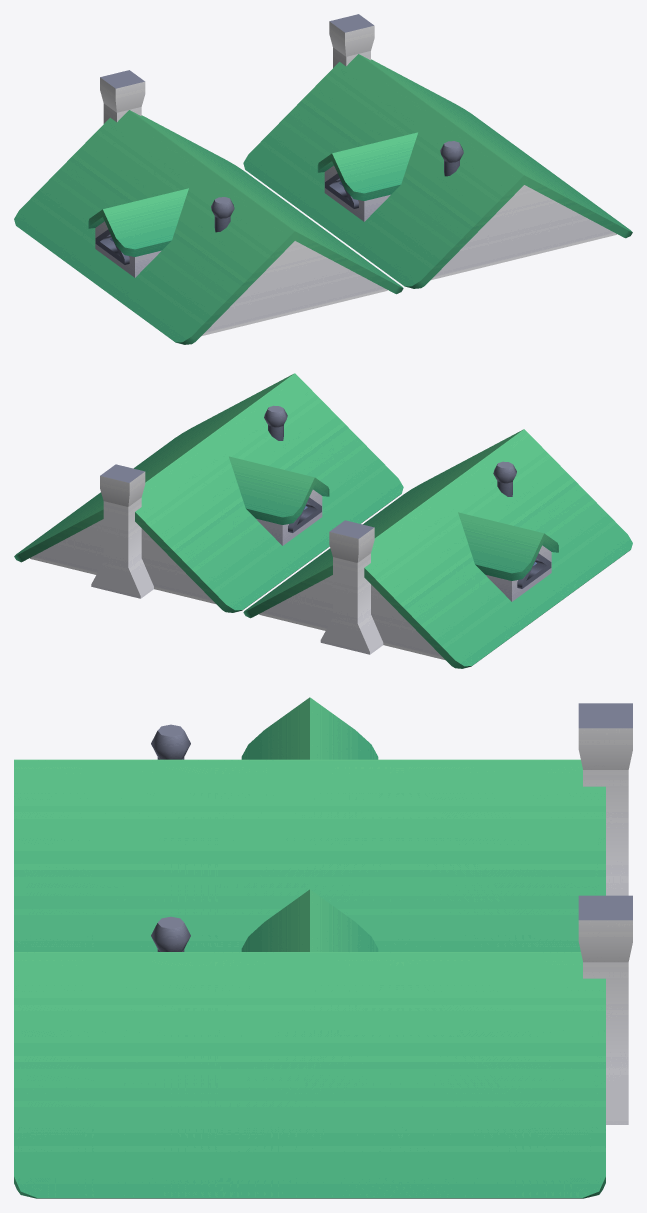
File: suburban-d.glb
The picture shows the model from 3 angles, top to bottom: view 1: azimuth 30°, elevation 25°; view 2: azimuth 150°, elevation 25°; view 3: azimuth 270°, elevation 25°; orthographic projection. The views are drawn at different scales.
Visible parts, largest first — view 1: building-type-d; view 2: building-type-d; view 3: building-type-d.
Part boxes in pixels (x1,y1,x2,y2): building-type-d: [14, 14, 632, 344]; building-type-d: [14, 373, 632, 668]; building-type-d: [14, 697, 632, 1198].
Bounding box in the file's own units: 11.31 × 2.71 × 7.74.
Materials: 1 (1 with a texture image).
